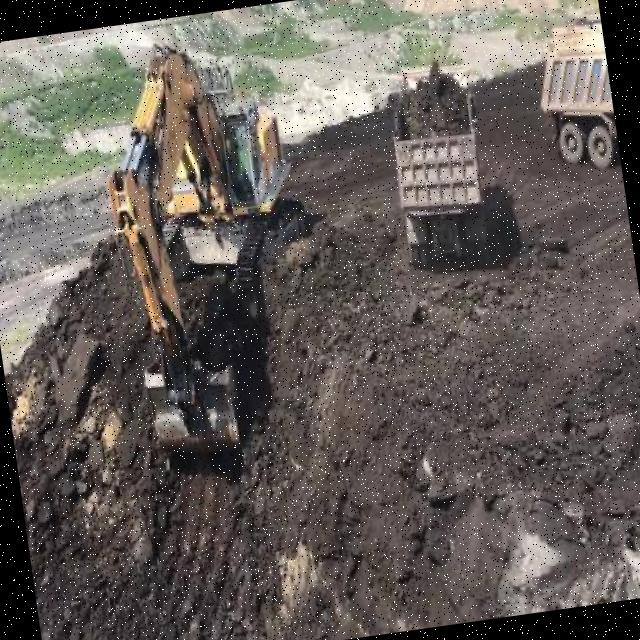Dump Truck: (387, 70, 492, 268), (526, 18, 622, 175)
Excavator: (86, 23, 342, 486)
